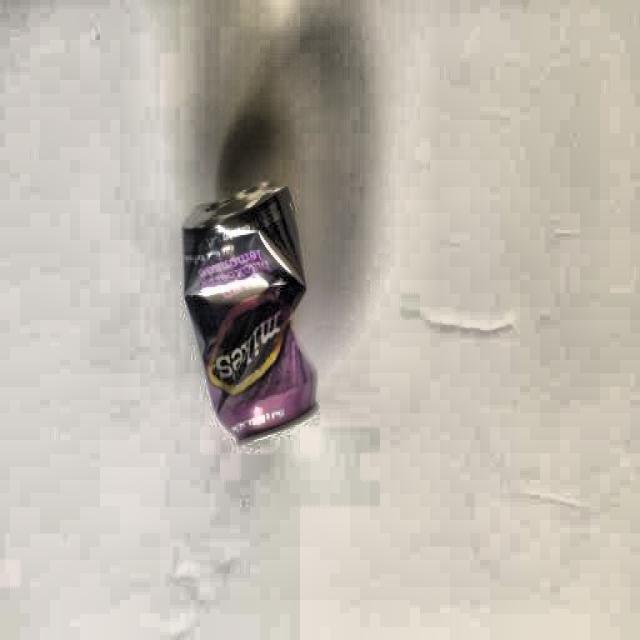metal: (172, 180, 326, 433)
